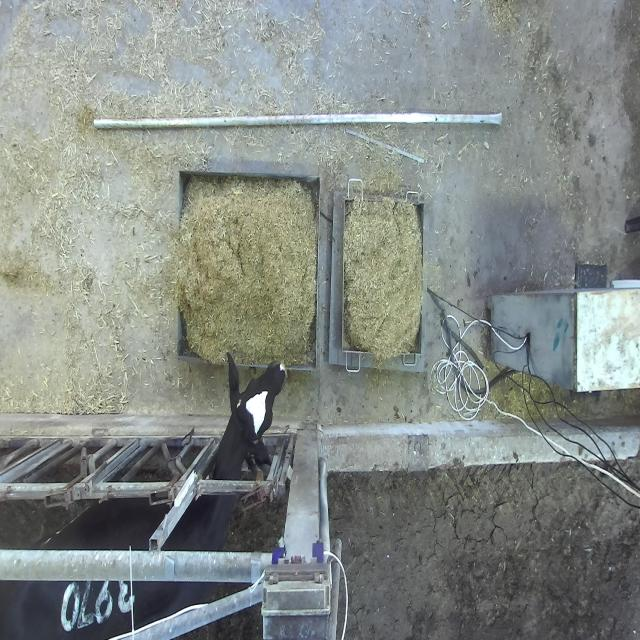cow: (228, 352, 288, 478)
